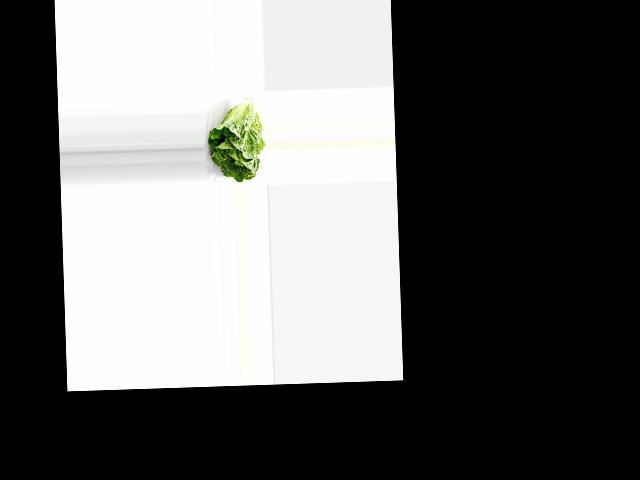lettuce: (205, 99, 267, 182)
